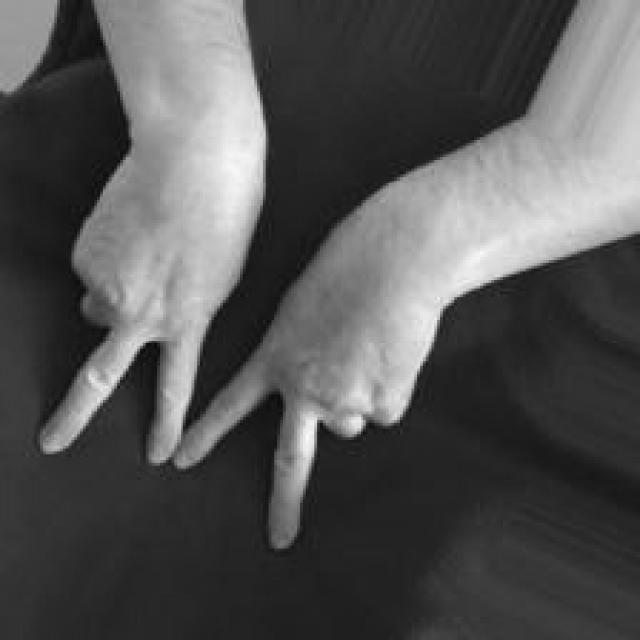M: (32, 145, 476, 556)
